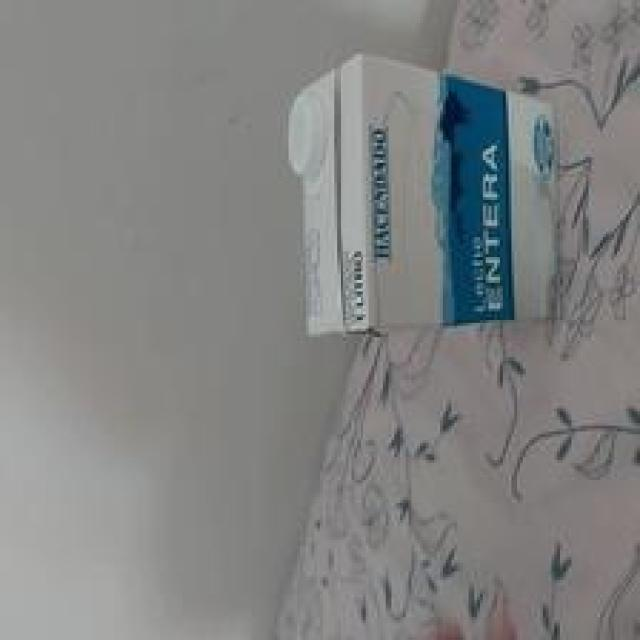Carton: (289, 50, 561, 336)
